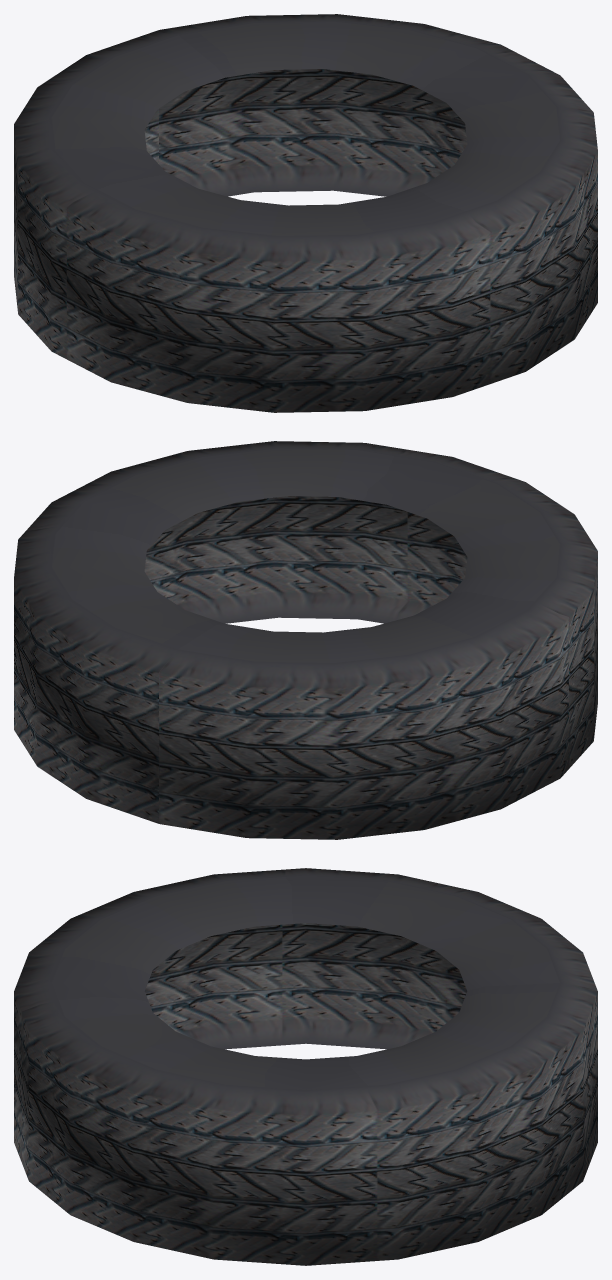
Rendered from tire.obj.
The picture shows the model from 3 angles, top to bottom: view 1: azimuth 30°, elevation 25°; view 2: azimuth 150°, elevation 25°; view 3: azimuth 270°, elevation 25°; orthographic projection.
Parts seen in each view (by area): view 1: Object02; view 2: Object02; view 3: Object02.
Boxes of the visible parts, x1,y1,x2,y2 form: Object02: [14, 14, 597, 412]; Object02: [14, 441, 597, 839]; Object02: [14, 868, 597, 1265].
Size of the model in its own units: 0.6726 by 0.2138 by 0.6727.
2 materials, 2 textured.
